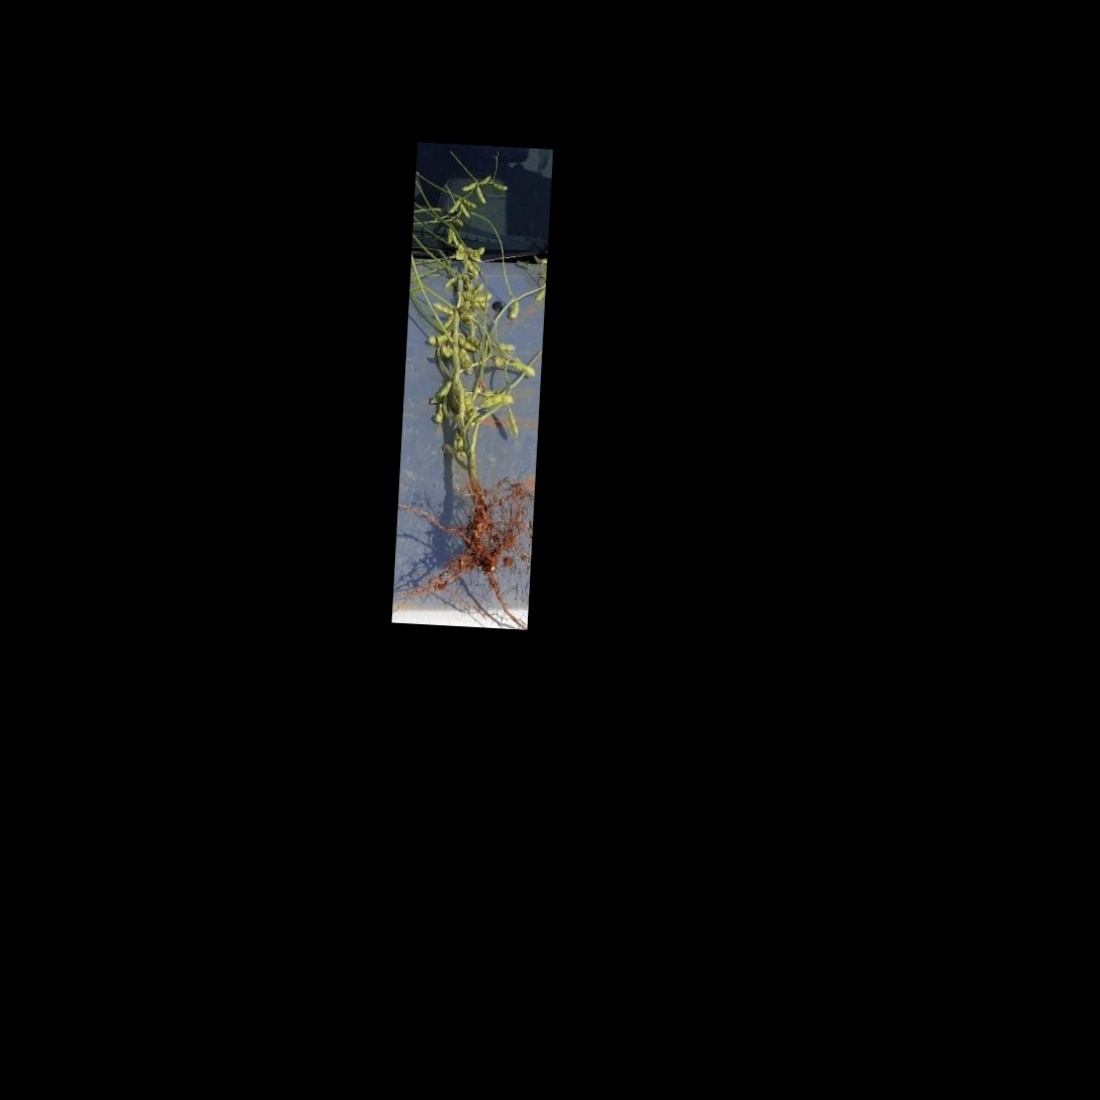pod: (476, 393, 516, 413), (509, 358, 539, 379), (505, 409, 520, 440), (506, 299, 522, 322), (432, 302, 455, 317), (426, 332, 447, 346), (447, 197, 462, 216), (466, 246, 486, 260), (474, 184, 487, 207), (441, 275, 457, 291), (495, 341, 517, 353), (491, 181, 509, 193), (449, 229, 460, 247), (460, 202, 471, 220), (460, 181, 476, 192), (445, 227, 453, 246)
soy: (401, 147, 549, 603)
